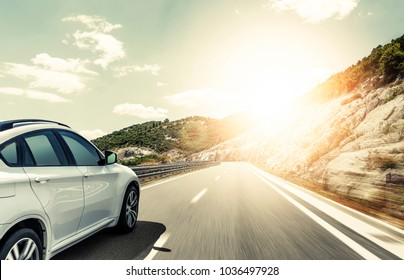car: (1, 120, 139, 259)
